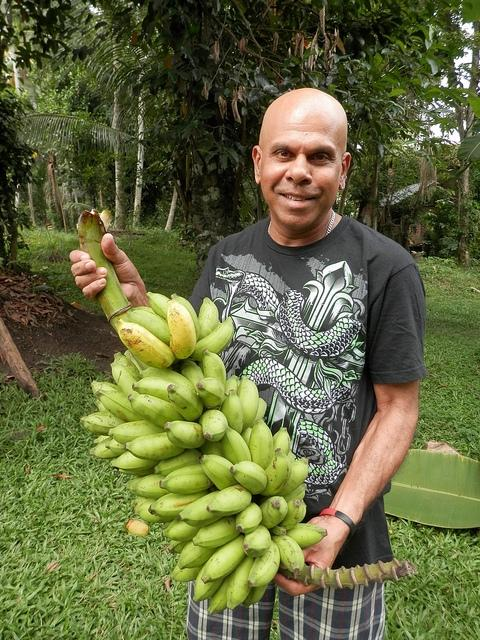banana: (114, 318, 176, 369), (253, 457, 309, 505), (148, 484, 219, 519), (201, 533, 247, 584), (127, 394, 189, 431), (190, 316, 234, 362), (125, 432, 186, 461), (167, 300, 196, 360), (126, 310, 170, 348), (95, 389, 145, 422), (159, 464, 214, 494), (178, 491, 225, 526), (192, 517, 241, 549), (139, 367, 197, 394), (260, 448, 292, 496), (248, 540, 280, 588), (227, 556, 255, 610), (271, 536, 305, 580), (200, 454, 241, 490), (206, 484, 252, 516), (108, 420, 166, 445), (154, 448, 204, 477), (171, 292, 200, 342), (167, 384, 204, 422), (132, 377, 183, 404), (177, 539, 220, 570), (248, 419, 274, 470), (164, 420, 206, 450), (230, 461, 267, 495), (237, 376, 259, 433), (220, 426, 252, 464), (193, 564, 224, 602), (79, 412, 126, 436), (220, 389, 244, 435), (286, 523, 328, 549), (110, 362, 142, 395), (207, 572, 232, 614), (110, 452, 162, 472), (161, 518, 203, 542), (198, 409, 228, 442), (132, 473, 170, 499), (243, 524, 272, 558), (134, 498, 175, 522), (197, 297, 218, 343), (259, 496, 288, 529), (202, 348, 227, 386), (178, 358, 205, 392), (196, 378, 225, 408), (277, 498, 304, 530), (236, 502, 262, 533), (91, 380, 124, 402), (170, 562, 206, 582), (146, 292, 170, 322), (90, 436, 120, 459), (114, 352, 140, 377), (243, 584, 269, 608), (273, 427, 291, 456), (250, 398, 266, 428), (284, 483, 306, 502), (106, 438, 128, 456), (168, 540, 192, 554), (115, 468, 154, 476), (225, 374, 238, 396), (241, 428, 252, 447), (268, 525, 287, 536)
